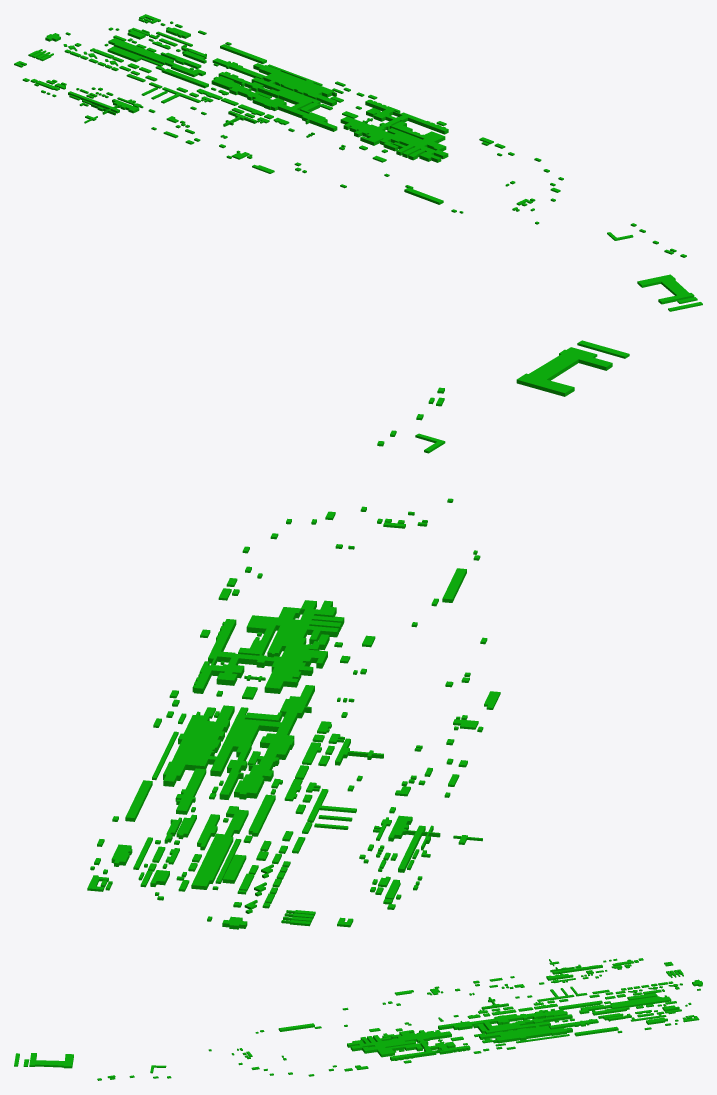
3 views of the same model, one above another, from view 1: azimuth 30°, elevation 25°; view 2: azimuth 150°, elevation 25°; view 3: azimuth 270°, elevation 25° (orthographic). The views are drawn at different scales.
Parts seen in each view (by area): view 1: 1930.001; view 2: 1930.001; view 3: 1930.001.
Part boxes in pixels (<box>): 1930.001: <box>14,14,702,311</box>; 1930.001: <box>87,340,629,929</box>; 1930.001: <box>14,958,702,1080</box>.
Size of the model in its own units: 1494 by 15.24 by 3570.
